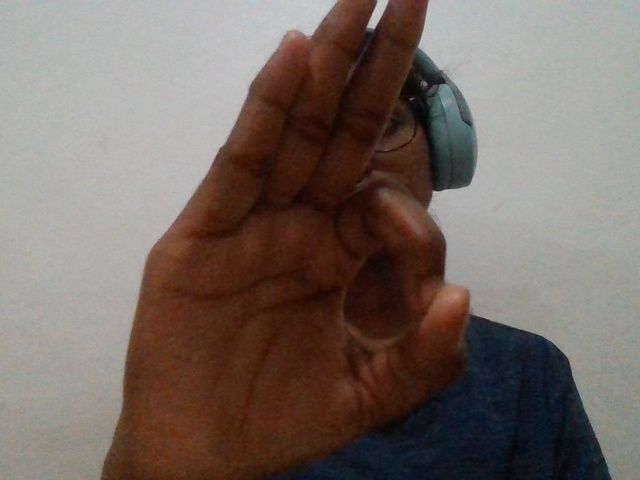F: (107, 1, 487, 480)
